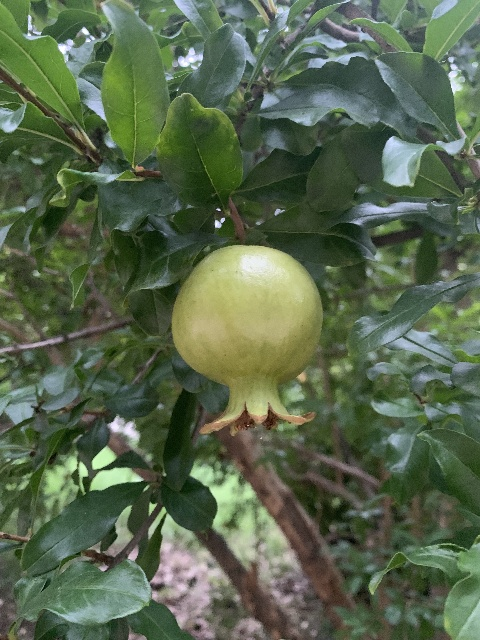mid-growth: (170, 243, 323, 433)
